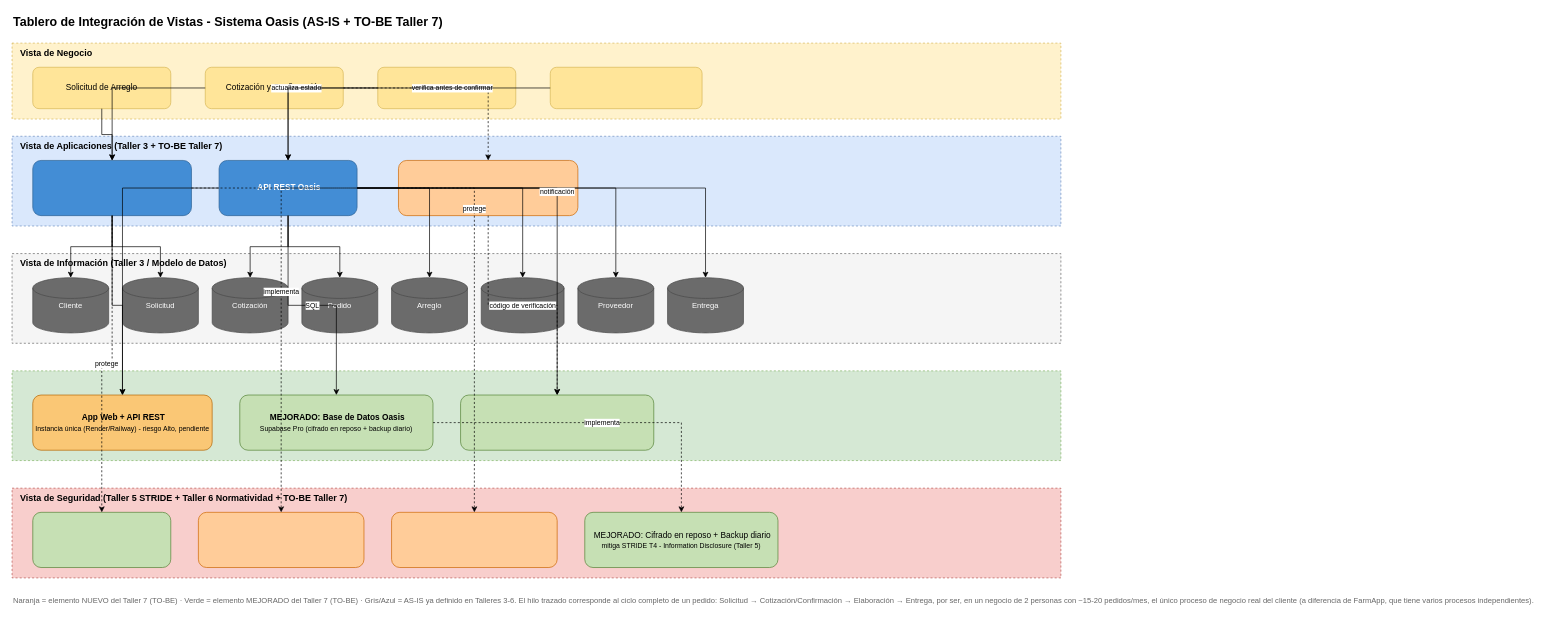
Some shapes in this 1546 by 631 pixel diagram are drawn without their labels. Here are the shapes that lost their labels. From the top down, the box of each, then its label:
(377, 67, 516, 109): Elaboración del Arreglo
(550, 67, 702, 109): Entrega y Notificación de Estado
(32, 160, 191, 216): MEJORADO: App Web Oasis (agrega casilla de consentimiento)
(398, 160, 578, 216): NUEVO: Módulo de Autenticación Ligera (código de verificación por WhatsApp)
(11, 370, 1061, 461): Vista de Infraestructura (Taller 4 + TO-BE Taller 7)
(460, 394, 654, 450): MEJORADO: WhatsApp Business API ahora también envía código de verificación
(32, 512, 171, 568): HTTPS en tránsito Cumple (Taller 6)
(198, 512, 364, 568): NUEVO: Verificación de Identidad mitiga STRIDE T1 - Spoofing (Taller 5)
(391, 512, 557, 568): NUEVO: Consentimiento Explícito mitiga brecha Ley 1581 (Taller 6)
